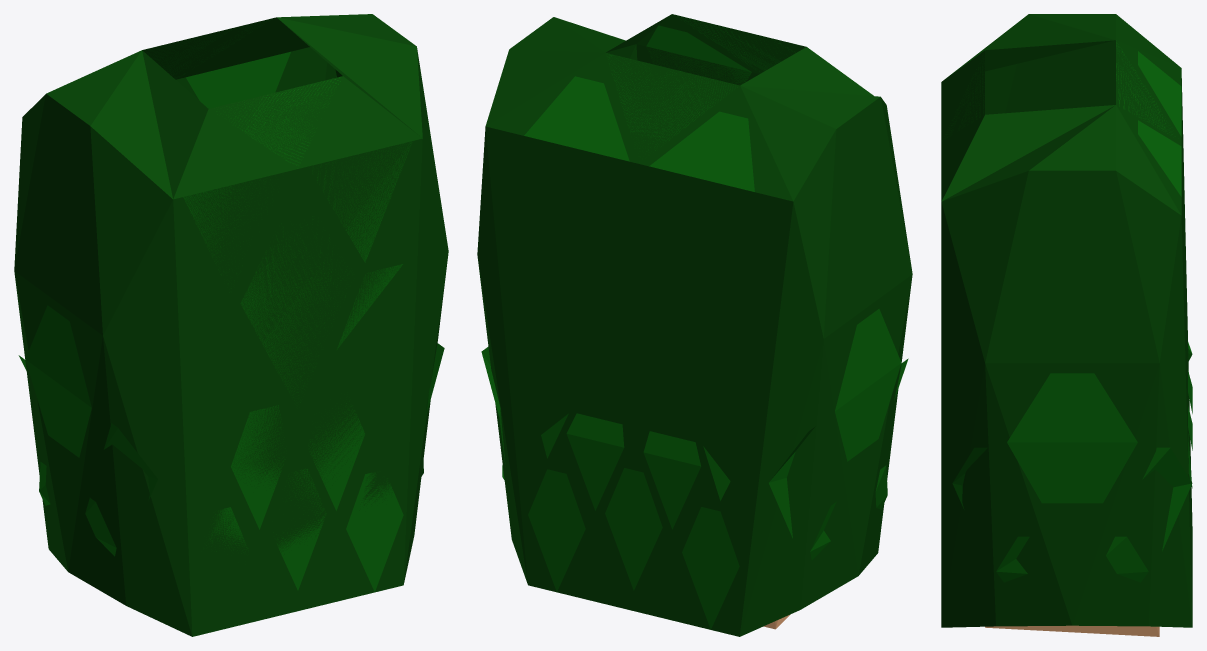
The model's file is model_314_obj_wear.obj.
3 views of the same model, side by side, from view 1: azimuth 30°, elevation 25°; view 2: azimuth 150°, elevation 25°; view 3: azimuth 270°, elevation 25° (orthographic).
Parts seen in each view (by area): view 1: 314; view 2: 314; view 3: 314.
Part boxes in pixels (box(x1,y1,x2,y2)): 314: box(14, 14, 448, 636); 314: box(477, 14, 912, 636); 314: box(941, 14, 1192, 636).
Bounding box in the file's own units: 36 × 51 × 23.
